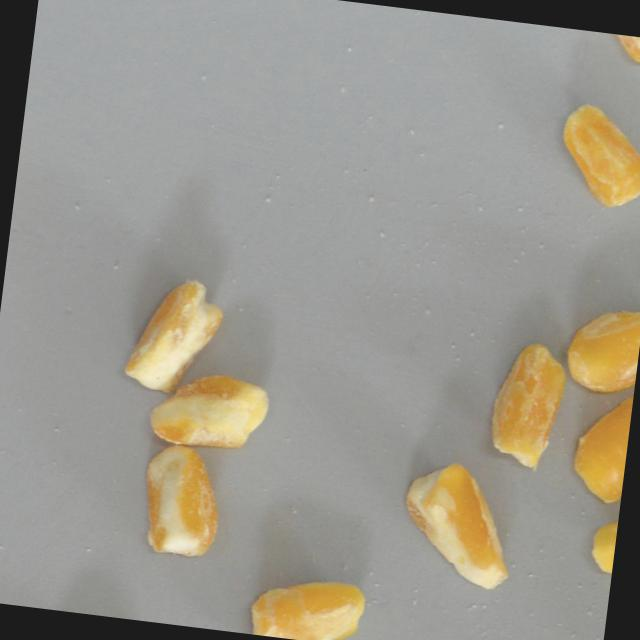dañado: (390, 451, 530, 596), (130, 438, 230, 566), (482, 335, 573, 473), (142, 365, 274, 458), (545, 95, 640, 214), (243, 567, 370, 640), (564, 377, 635, 506), (561, 297, 640, 398), (583, 493, 621, 576), (562, 28, 640, 68)
punto_negro: (119, 269, 227, 401)
